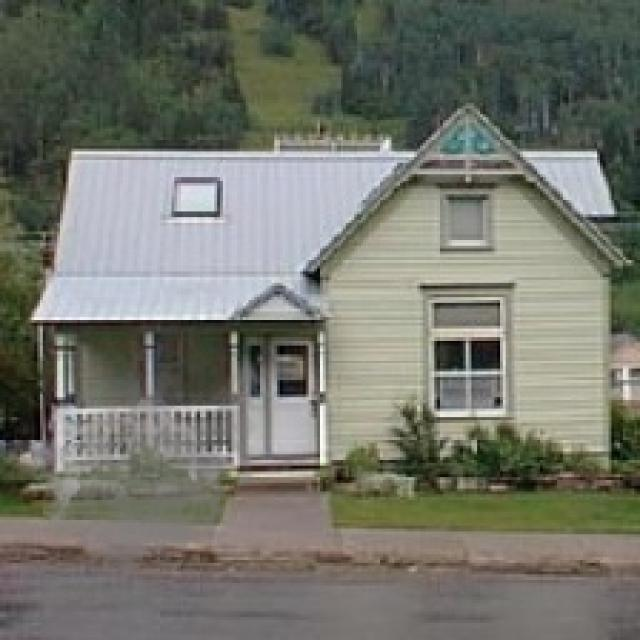Smoke: (40, 323, 269, 591)
